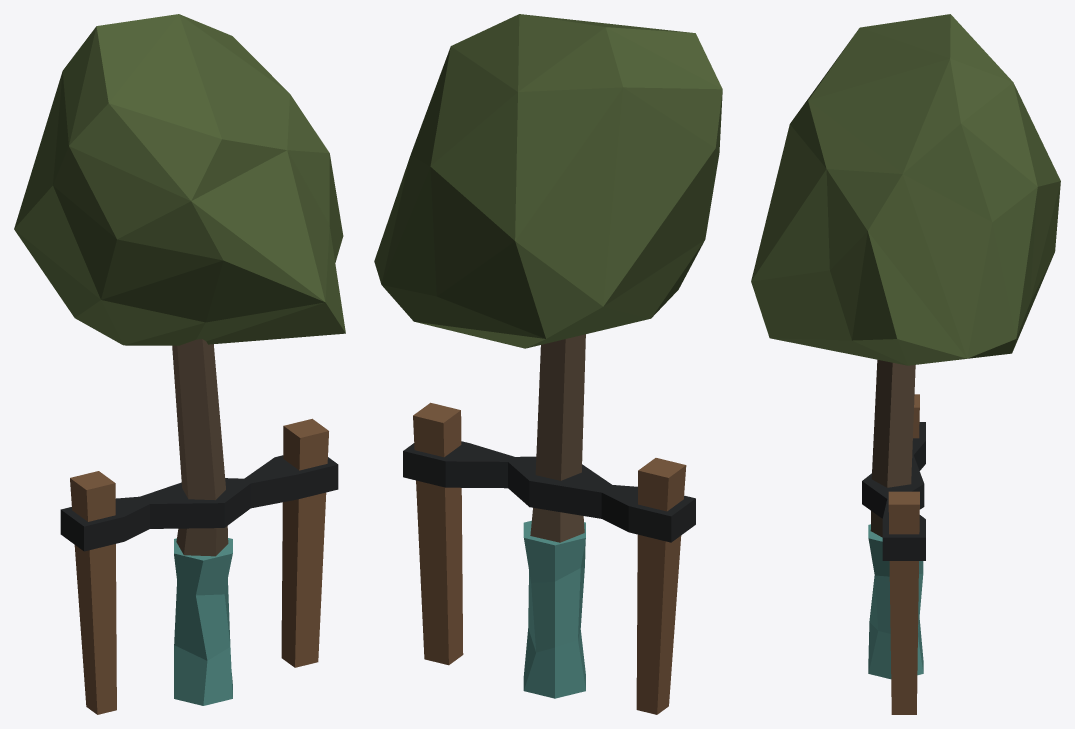
Rendered from SM_Env_Tree_02_Framed.fbx.
3 renders of one model, left to right at view 1: azimuth 30°, elevation 25°; view 2: azimuth 150°, elevation 25°; view 3: azimuth 270°, elevation 25°, orthographic. The views are drawn at different scales.
Visible parts, largest first — view 1: SM_Env_Tree_02_Framed; view 2: SM_Env_Tree_02_Framed; view 3: SM_Env_Tree_02_Framed.
Part boxes in pixels (left/top/right/bottom): SM_Env_Tree_02_Framed: left=14, top=14, right=345, bottom=714; SM_Env_Tree_02_Framed: left=374, top=14, right=722, bottom=714; SM_Env_Tree_02_Framed: left=751, top=14, right=1060, bottom=714.
Size of the model in its own units: 99.46 by 216 by 98.04.
